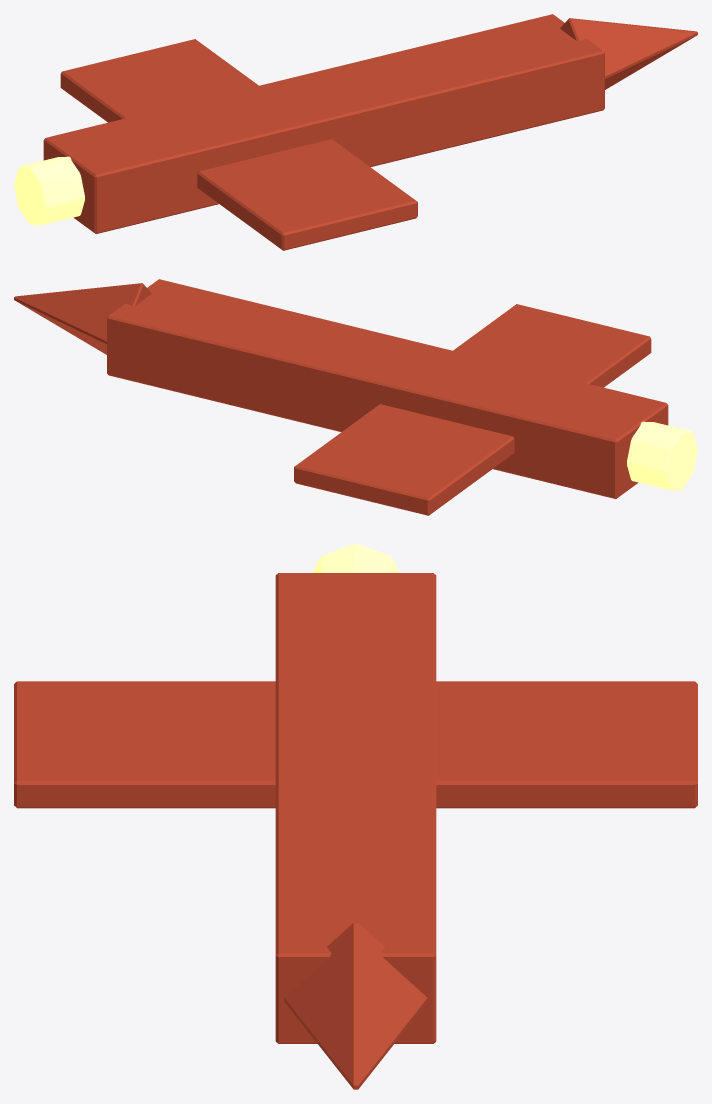
The model's file is SM_TitheInterceptor.fbx.
3 views of the same model, one above another, from view 1: azimuth 30°, elevation 25°; view 2: azimuth 150°, elevation 25°; view 3: azimuth 270°, elevation 25° (orthographic). The views are drawn at different scales.
Parts seen in each view (by area): view 1: SM_TitheInterceptor; view 2: SM_TitheInterceptor; view 3: SM_TitheInterceptor.
Part boxes in pixels (x1,y1,x2,y2): SM_TitheInterceptor: [14, 14, 697, 250]; SM_TitheInterceptor: [14, 279, 697, 515]; SM_TitheInterceptor: [14, 544, 697, 1089].
Bounding box in the file's own units: 118 × 15.37 × 68.
